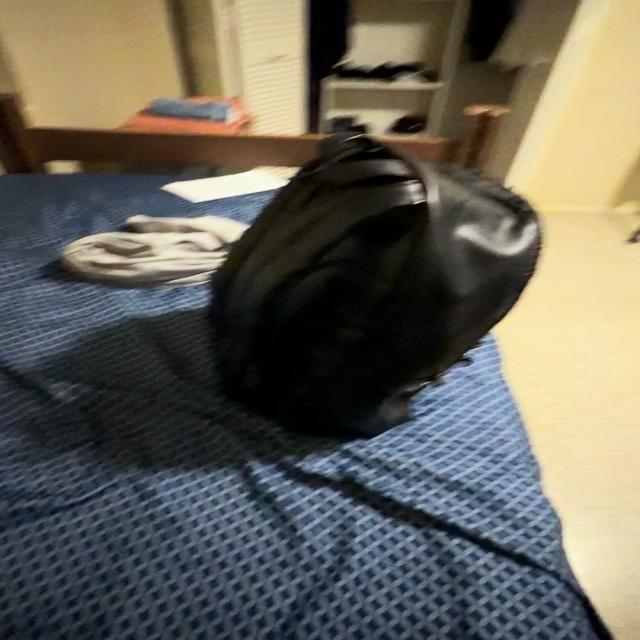backpack: (213, 136, 540, 436)
